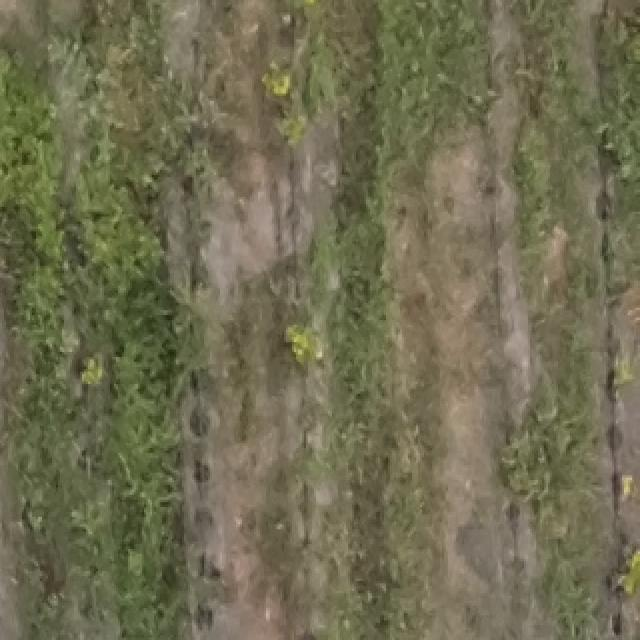strawberry-plant: (275, 314, 328, 400), (77, 345, 120, 420), (601, 458, 640, 528), (602, 539, 640, 608), (602, 357, 640, 423), (264, 56, 307, 105), (269, 117, 310, 162), (288, 623, 358, 640), (274, 0, 328, 15), (0, 150, 6, 236), (0, 281, 4, 347)
